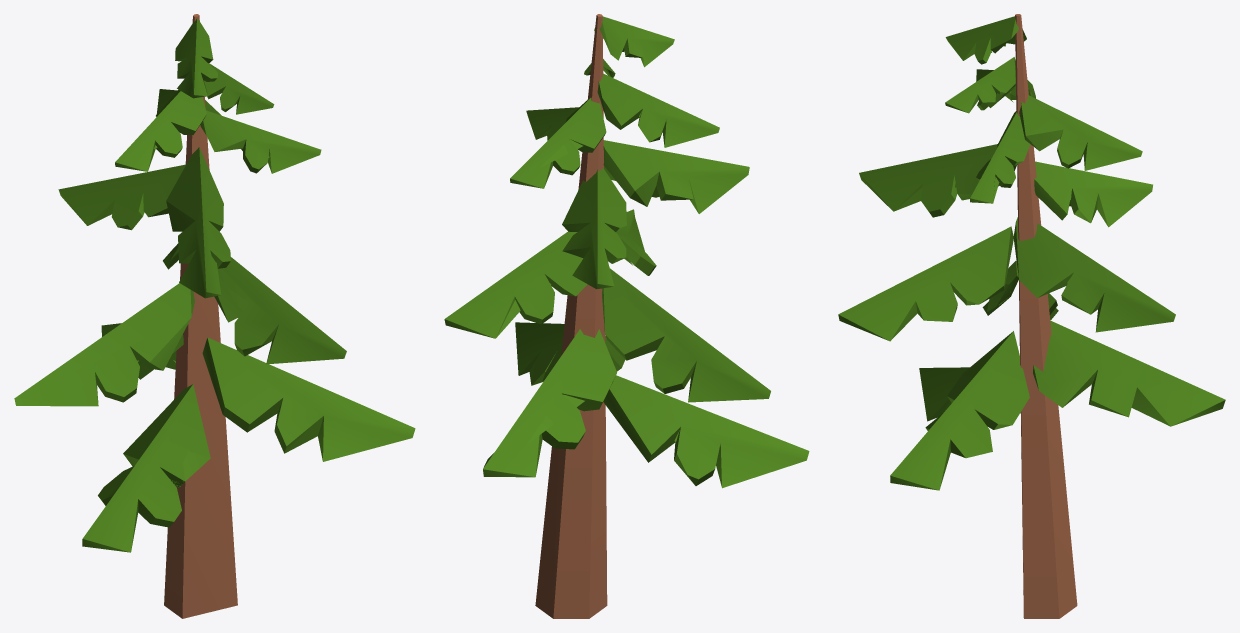
File: TreeManyObjects.fbx
The picture shows the model from 3 angles, left to right: view 1: azimuth 30°, elevation 25°; view 2: azimuth 150°, elevation 25°; view 3: azimuth 270°, elevation 25°; orthographic projection. The views are drawn at different scales.
Visible parts, largest first — view 1: Tree_LOD_1.002, Tree_LOD_1.011, Tree_LOD_1.009, Tree_LOD_1.004, Tree_LOD_1.007, Tree_LOD_1.005, Tree_LOD_1.006, Tree_LOD_1.014, Tree_LOD_1.012, Tree_LOD_1.015, Tree_LOD_1.016; view 2: Tree_LOD_1.002, Tree_LOD_1.009, Tree_LOD_1.004, Tree_LOD_1.008, Tree_LOD_1.010, Tree_LOD_1.005, Tree_LOD_1.006, Tree_LOD_1.012, Tree_LOD_1.013, Tree_LOD_1.011, Tree_LOD_1.015, Tree_LOD_1.007 (+1 smaller); view 3: Tree_LOD_1.002, Tree_LOD_1.008, Tree_LOD_1.011, Tree_LOD_1.007, Tree_LOD_1.010, Tree_LOD_1.005, Tree_LOD_1.006, Tree_LOD_1.013, Tree_LOD_1.014, Tree_LOD_1.015, Tree_LOD_1.016, Tree_LOD_1.009 (+2 smaller).
Part boxes in pixels (bbox=[...]): Tree_LOD_1.002: bbox=[164, 14, 237, 618]; Tree_LOD_1.011: bbox=[202, 337, 415, 461]; Tree_LOD_1.009: bbox=[82, 384, 210, 552]; Tree_LOD_1.004: bbox=[14, 283, 194, 406]; Tree_LOD_1.007: bbox=[214, 257, 346, 364]; Tree_LOD_1.005: bbox=[166, 147, 230, 298]; Tree_LOD_1.006: bbox=[58, 164, 185, 230]; Tree_LOD_1.014: bbox=[200, 110, 321, 173]; Tree_LOD_1.012: bbox=[115, 89, 206, 171]; Tree_LOD_1.015: bbox=[175, 18, 217, 98]; Tree_LOD_1.016: bbox=[203, 63, 274, 114]; Tree_LOD_1.002: bbox=[535, 14, 607, 618]; Tree_LOD_1.009: bbox=[603, 375, 809, 488]; Tree_LOD_1.004: bbox=[602, 268, 770, 402]; Tree_LOD_1.008: bbox=[483, 329, 616, 477]; Tree_LOD_1.010: bbox=[444, 231, 587, 338]; Tree_LOD_1.005: bbox=[603, 140, 749, 213]; Tree_LOD_1.006: bbox=[562, 168, 626, 289]; Tree_LOD_1.012: bbox=[597, 73, 719, 147]; Tree_LOD_1.013: bbox=[510, 97, 606, 188]; Tree_LOD_1.011: bbox=[515, 322, 625, 385]; Tree_LOD_1.015: bbox=[594, 16, 674, 67]; Tree_LOD_1.007: bbox=[616, 209, 656, 275]; Tree_LOD_1.002: bbox=[1015, 14, 1077, 618]; Tree_LOD_1.008: bbox=[1033, 320, 1225, 426]; Tree_LOD_1.011: bbox=[890, 331, 1029, 490]; Tree_LOD_1.007: bbox=[838, 226, 1013, 341]; Tree_LOD_1.010: bbox=[1013, 217, 1175, 332]; Tree_LOD_1.005: bbox=[859, 144, 1016, 217]; Tree_LOD_1.006: bbox=[1034, 161, 1152, 227]; Tree_LOD_1.013: bbox=[1019, 95, 1142, 170]; Tree_LOD_1.014: bbox=[970, 111, 1030, 203]; Tree_LOD_1.015: bbox=[945, 16, 1026, 64]; Tree_LOD_1.016: bbox=[945, 57, 1015, 113]; Tree_LOD_1.009: bbox=[919, 367, 969, 421].
Size of the model in its own units: 355 by 616 by 371.
1 material, 1 textured.
